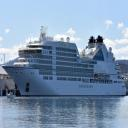cruises: (3, 27, 128, 98)
